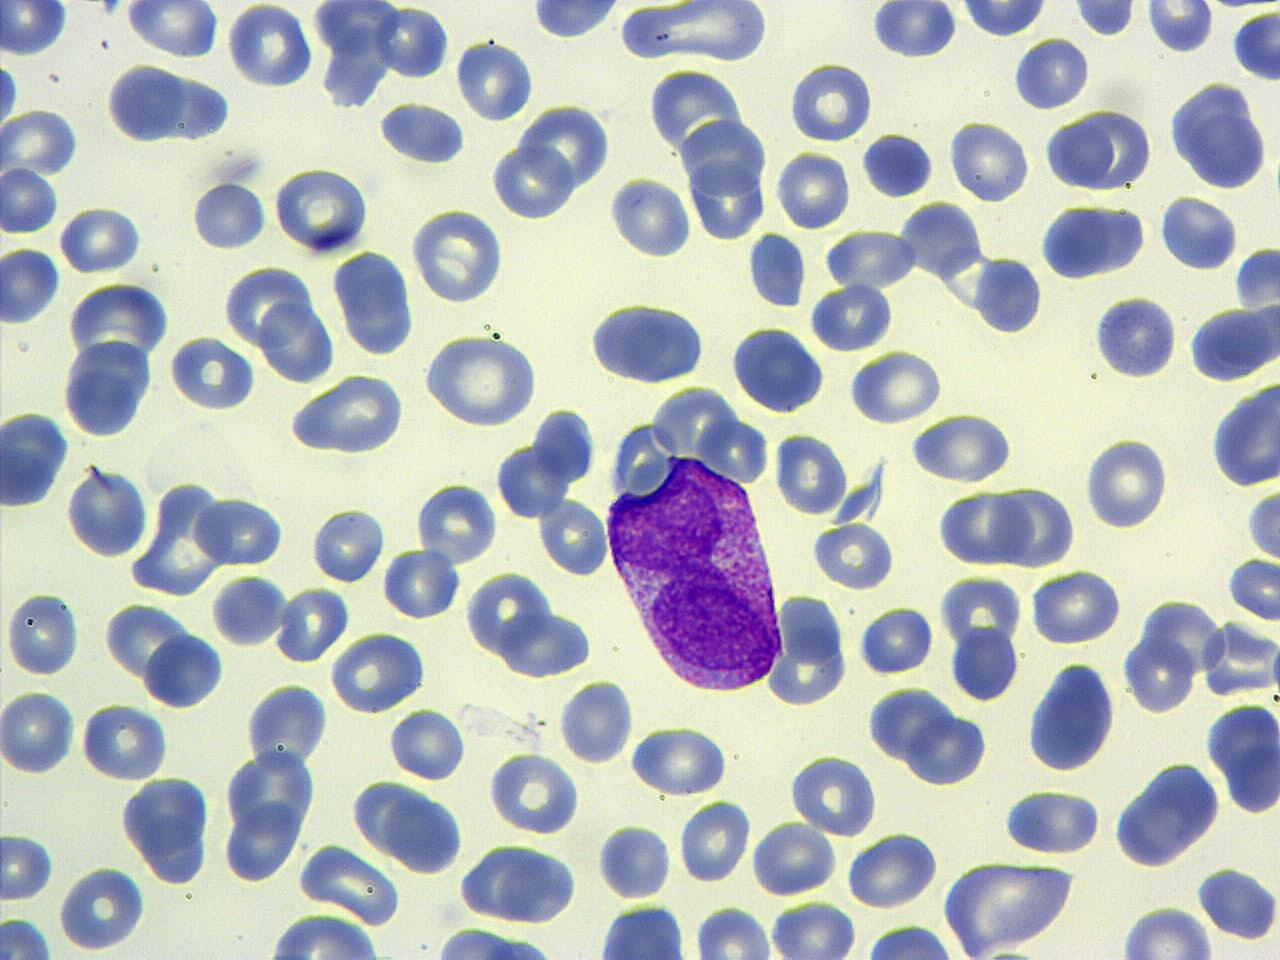Platelets: (218, 146, 266, 184), (100, 0, 124, 19)
RBC: (218, 742, 316, 878), (940, 860, 1082, 952), (1110, 758, 1224, 869), (1167, 76, 1273, 192), (422, 328, 542, 428), (1025, 657, 1119, 774), (587, 296, 708, 386), (762, 590, 852, 709), (456, 841, 581, 925), (288, 370, 411, 455), (122, 773, 213, 883), (1040, 108, 1156, 194), (62, 337, 156, 440), (727, 322, 827, 416), (409, 204, 504, 305), (60, 336, 154, 438), (1205, 696, 1280, 818), (334, 247, 416, 357), (272, 165, 372, 254), (616, 1, 764, 61), (298, 842, 402, 926), (57, 860, 148, 954), (486, 748, 582, 837), (1083, 434, 1169, 531), (329, 631, 427, 716), (1208, 376, 1280, 492), (935, 486, 1036, 568), (244, 680, 332, 772), (63, 463, 148, 559), (787, 750, 881, 836), (1091, 292, 1179, 382), (910, 410, 1016, 484), (225, 3, 314, 90), (225, 263, 313, 349), (846, 829, 940, 909), (0, 408, 76, 508), (848, 347, 944, 425), (382, 788, 465, 878), (627, 722, 729, 796), (787, 58, 874, 144), (414, 480, 499, 566), (608, 172, 692, 258), (488, 141, 578, 222), (1184, 304, 1274, 384), (1029, 568, 1121, 646), (80, 702, 169, 782), (948, 117, 1030, 204), (167, 333, 256, 412), (4, 586, 80, 678), (103, 63, 185, 146), (454, 37, 534, 123), (558, 676, 634, 766), (0, 686, 76, 776), (195, 494, 287, 568), (902, 710, 990, 788), (1002, 787, 1100, 856), (688, 156, 766, 243), (223, 797, 300, 883), (772, 428, 848, 516), (678, 794, 752, 884), (751, 819, 836, 897), (259, 297, 336, 384), (1196, 862, 1278, 942), (257, 910, 391, 958), (141, 630, 222, 710), (1158, 193, 1238, 272), (596, 819, 672, 902), (274, 582, 350, 665), (774, 148, 850, 230), (972, 254, 1045, 338), (972, 253, 1045, 337), (538, 493, 611, 578), (808, 283, 896, 353), (1123, 632, 1197, 714), (380, 546, 462, 620), (1039, 200, 1113, 282), (589, 902, 694, 959), (823, 228, 920, 290), (209, 573, 288, 648), (1010, 36, 1090, 112), (376, 101, 468, 166), (413, 923, 579, 959), (810, 520, 894, 592), (58, 204, 143, 274), (387, 706, 466, 782), (308, 505, 383, 584), (375, 4, 449, 83), (858, 602, 938, 674), (949, 622, 1021, 702), (191, 179, 269, 251), (1043, 116, 1117, 191), (868, 0, 958, 61), (126, 0, 220, 58), (766, 899, 858, 959), (1116, 904, 1214, 958), (1, 107, 80, 173), (862, 131, 938, 198), (1, 245, 61, 325), (748, 230, 808, 309), (522, 0, 638, 39), (695, 904, 771, 960), (0, 164, 59, 236), (0, 0, 70, 57), (1142, 1, 1214, 54), (1230, 7, 1280, 84), (856, 922, 962, 958), (1, 830, 55, 901), (951, 0, 1056, 36), (1227, 553, 1279, 621), (1246, 480, 1280, 571), (1068, 0, 1140, 37), (0, 914, 57, 958), (0, 58, 21, 130)
WBC: (601, 440, 786, 700)
